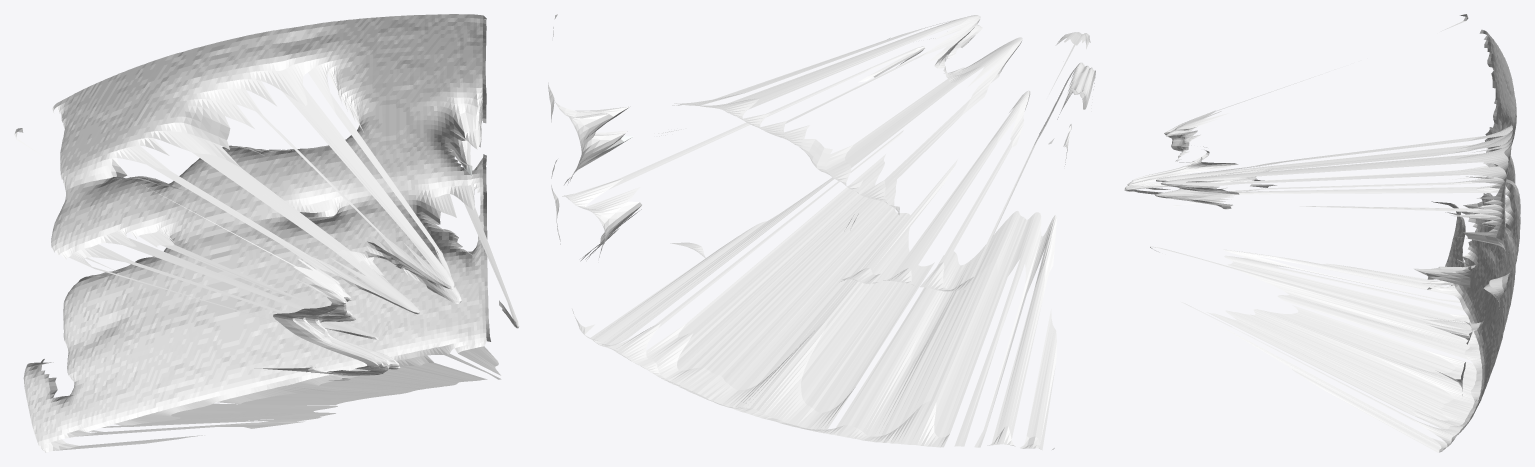
3 views of the same model, side by side, from view 1: azimuth 30°, elevation 25°; view 2: azimuth 150°, elevation 25°; view 3: azimuth 270°, elevation 25° (orthographic). The views are drawn at different scales.
Parts seen in each view (by area): view 1: defaultobject; view 2: defaultobject; view 3: defaultobject.
Part boxes in pixels (x1,y1,x2,y2): defaultobject: (14,14,519,452); defaultobject: (548,14,1095,450); defaultobject: (1124,14,1520,452).
Size of the model in its own units: 40.62 by 27.62 by 35.8.
Materials: 1 (1 with a texture image).
